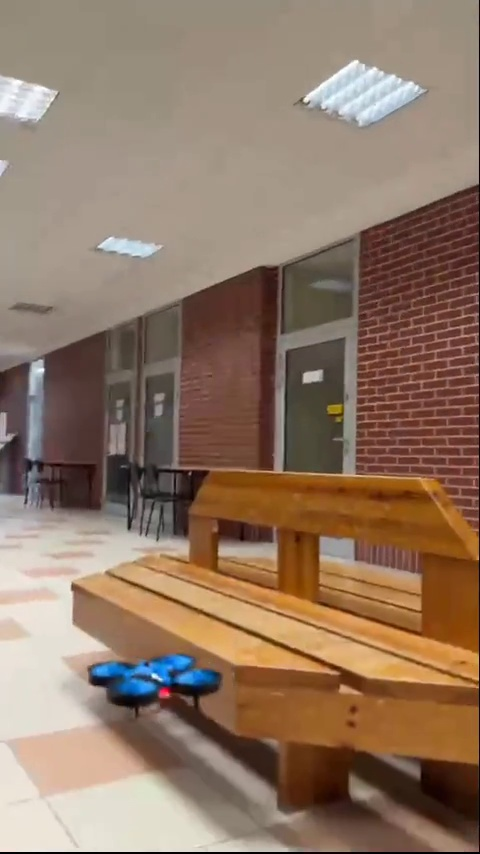drone: (89, 650, 212, 719)
